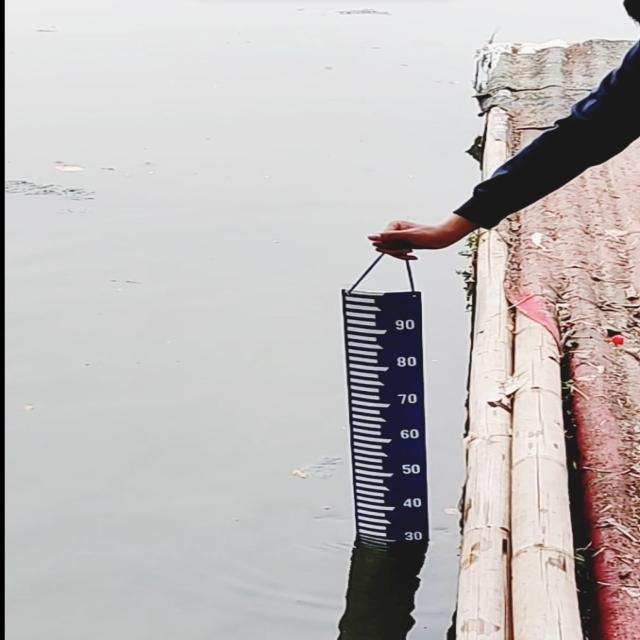30: (402, 528, 424, 543)
40: (402, 495, 425, 509)
50: (399, 461, 424, 477)
60: (398, 427, 422, 441)
70: (398, 391, 418, 406)
80: (394, 354, 416, 370)
90: (392, 318, 418, 332)
staff: (341, 290, 431, 545)
